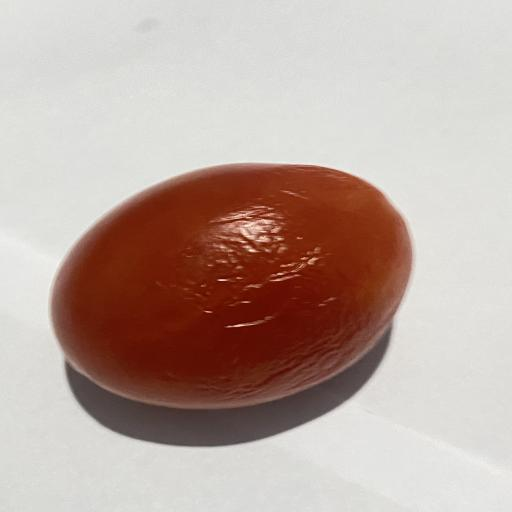spoiled: (52, 164, 411, 409), (232, 278, 234, 281)
